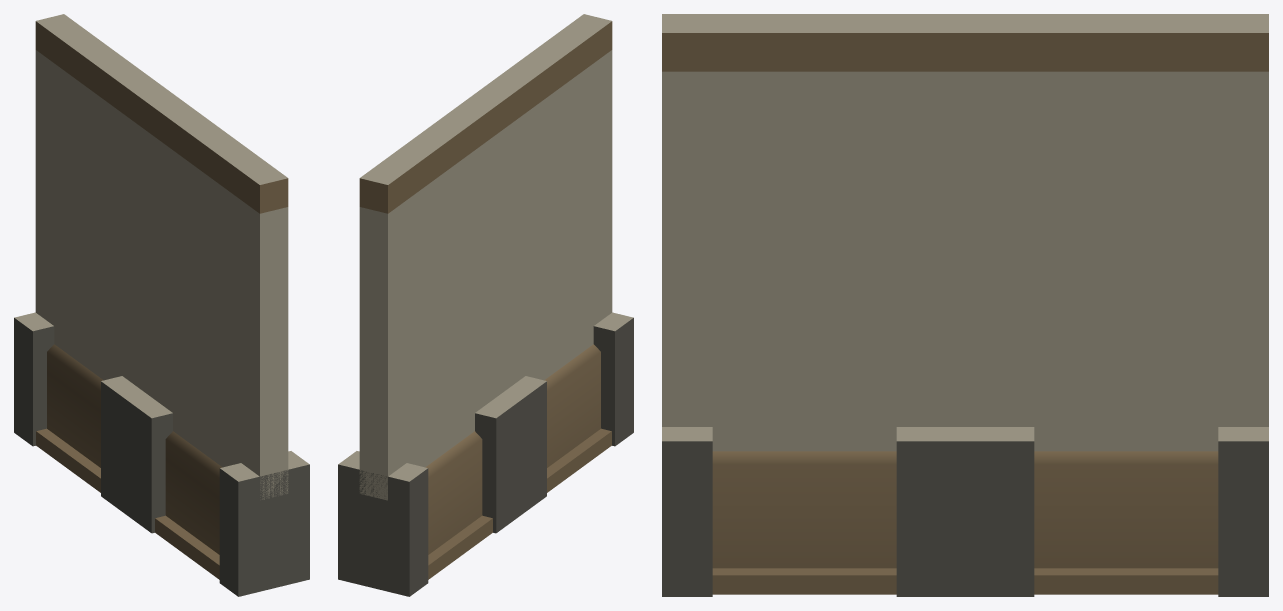
Rendered from Wall_Var.fbx.
3 views of the same model, side by side, from view 1: azimuth 30°, elevation 25°; view 2: azimuth 150°, elevation 25°; view 3: azimuth 270°, elevation 25° (orthographic). The views are drawn at different scales.
Parts seen in each view (by area): view 1: polySurface11; view 2: polySurface11; view 3: polySurface11.
Boxes of the visible parts, box(x1,y1,x2,y2) form: polySurface11: box(14, 14, 309, 596); polySurface11: box(338, 14, 633, 596); polySurface11: box(662, 14, 1268, 596).
Size of the model in its own units: 0.011 by 0.06 by 0.06.
